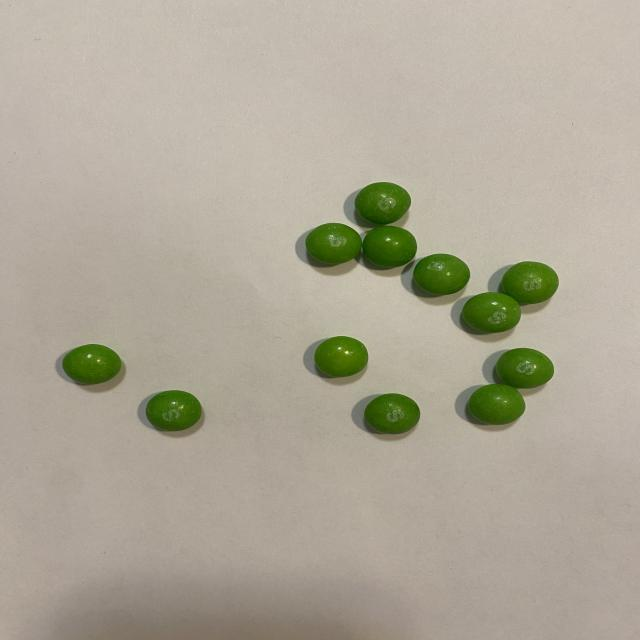smartie: (61, 344, 120, 385), (462, 292, 521, 333), (503, 261, 559, 304), (354, 182, 411, 224), (468, 384, 526, 425), (496, 348, 554, 389), (145, 390, 201, 432), (414, 253, 470, 295), (305, 223, 362, 264), (362, 225, 417, 267), (314, 336, 368, 378), (364, 394, 420, 434)
